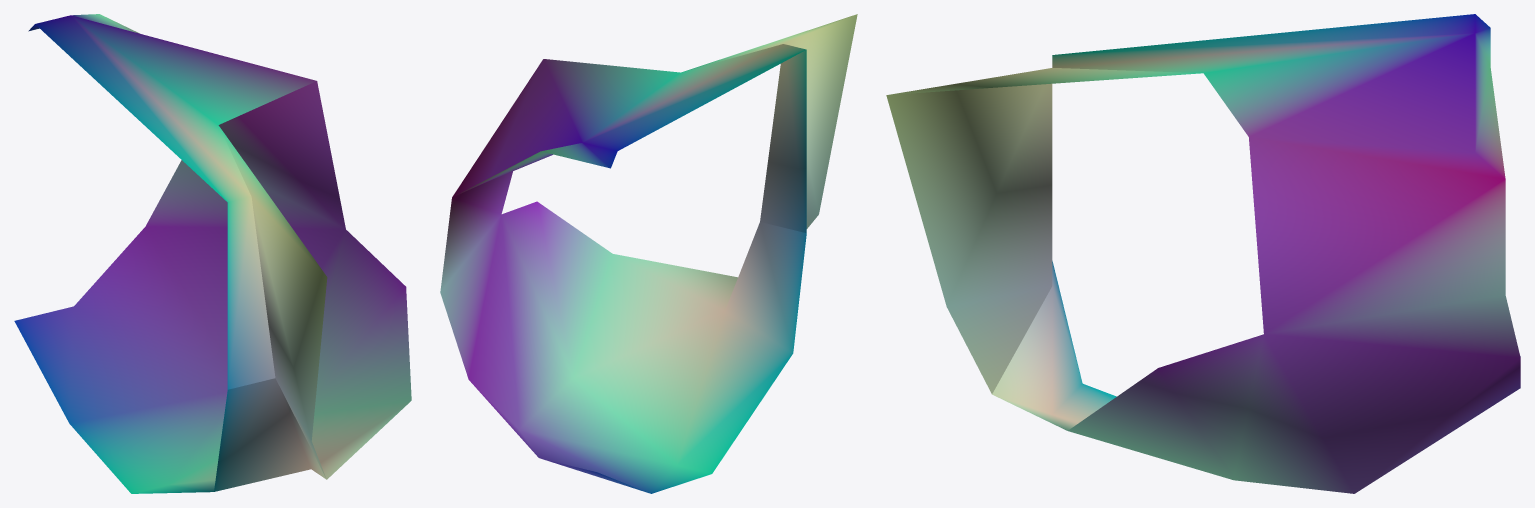
3 renders of one model, left to right at view 1: azimuth 30°, elevation 25°; view 2: azimuth 150°, elevation 25°; view 3: azimuth 270°, elevation 25°, orthographic. The views are drawn at different scales.
Parts seen in each view (by area): view 1: part; view 2: part; view 3: part.
Boxes of the visible parts, x1,y1,x2,y2 form: part: (14, 14, 411, 493); part: (440, 14, 857, 493); part: (886, 14, 1520, 493).
Bounding box in the file's own units: 19 × 32 × 42.
